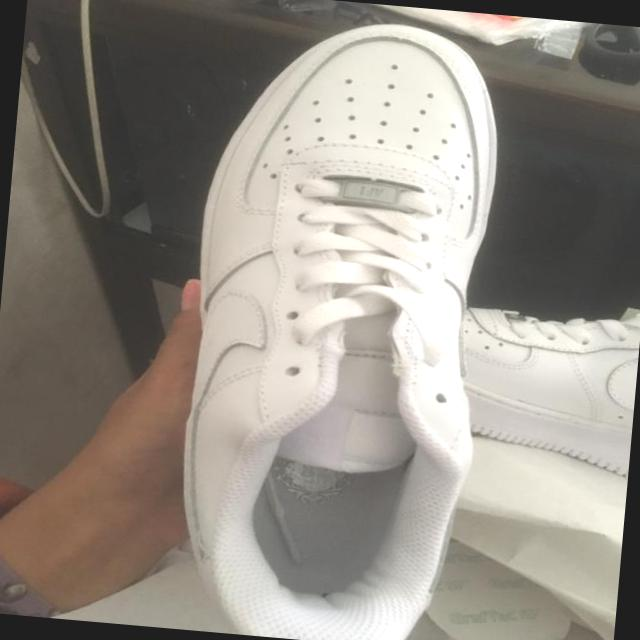nike_fake_airforce: (152, 6, 523, 640)
